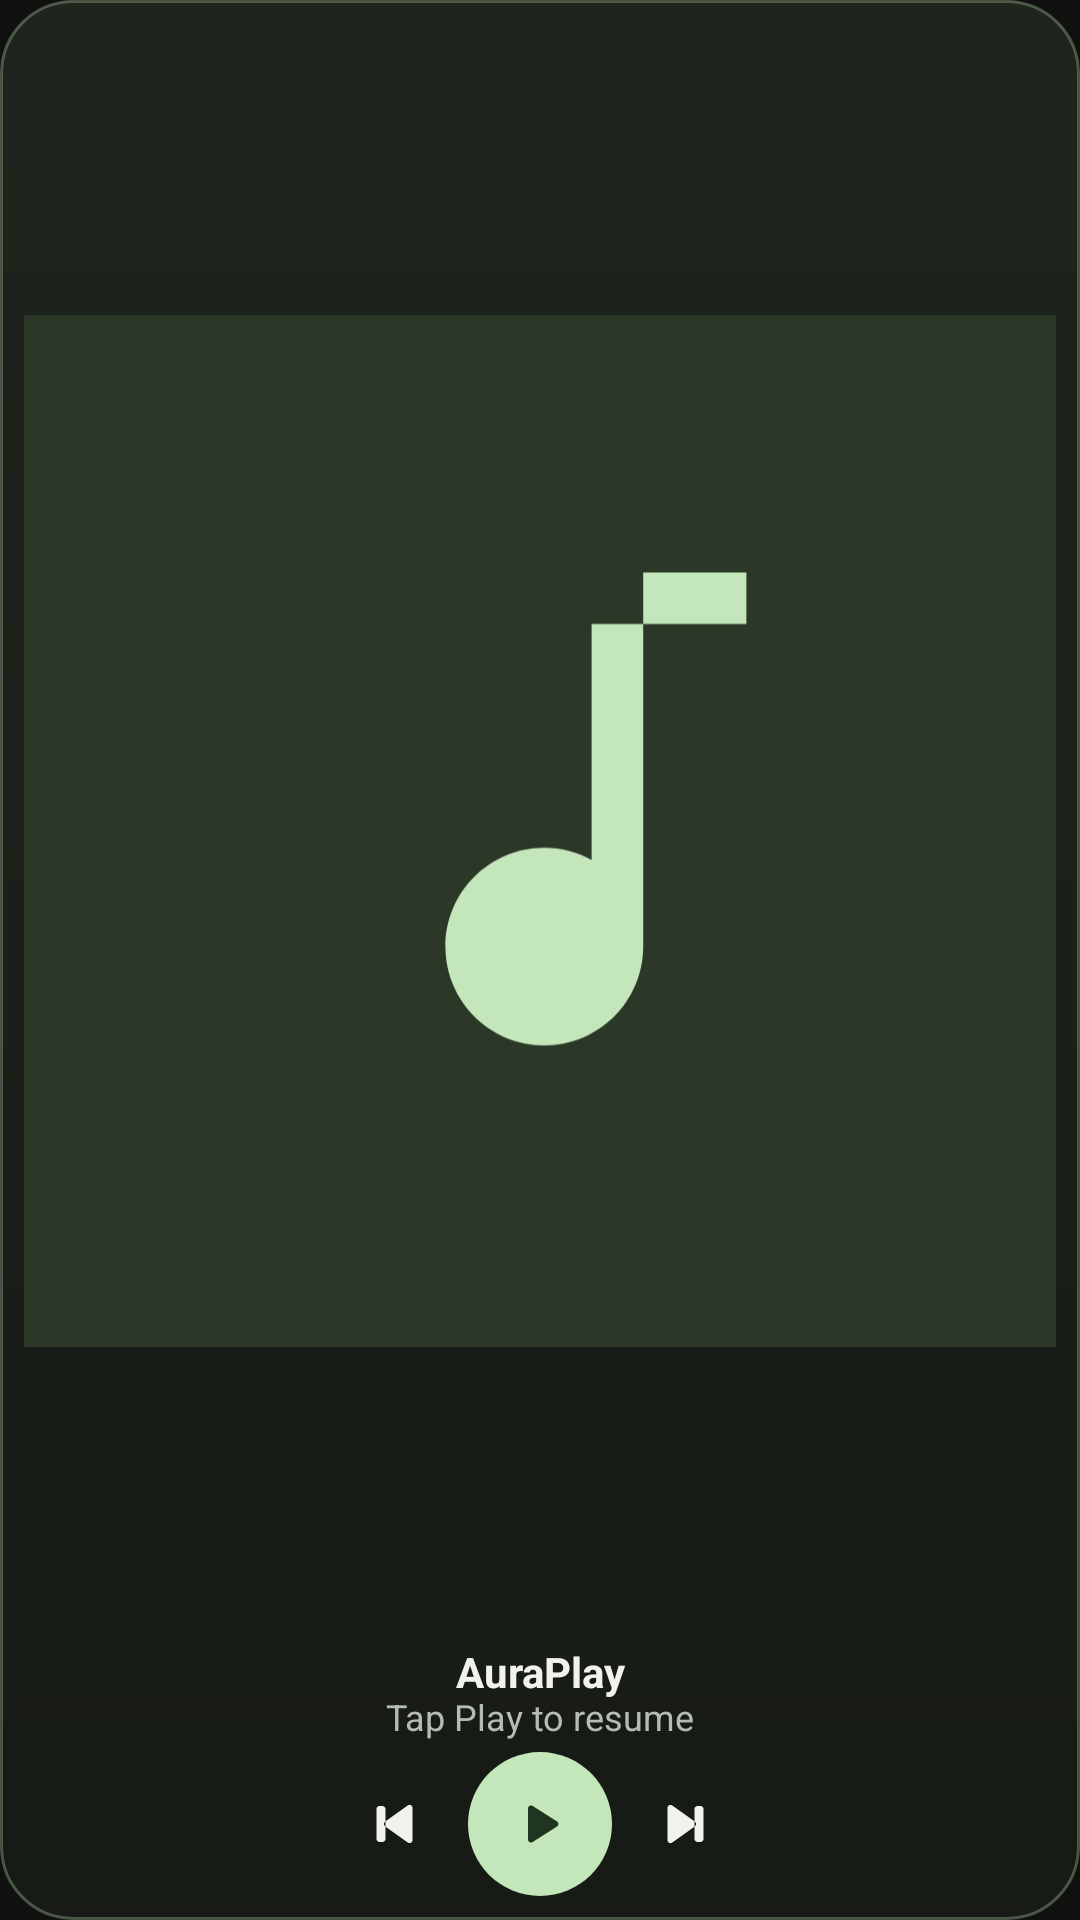

Icons on this 1080*1920 Android screen, each with its box as [left=x1, top=y1, right=x2, bottom=y2]:
Next track: [left=667, top=1805, right=704, bottom=1844]
Previous track: [left=376, top=1804, right=413, bottom=1843]
